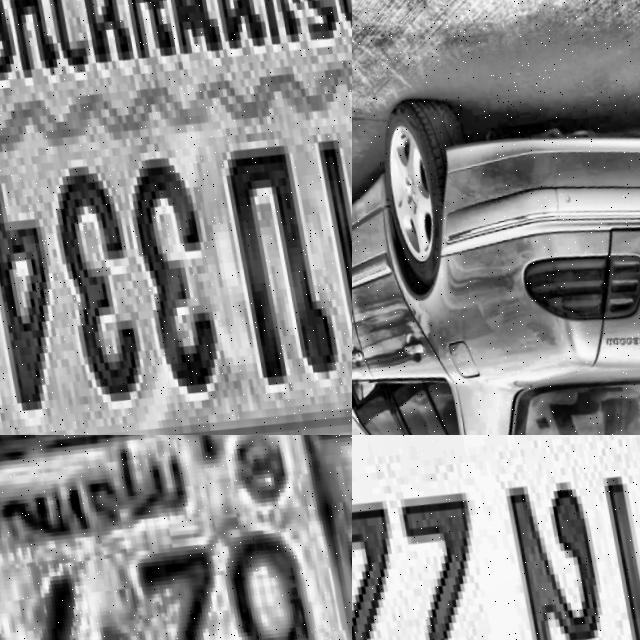license-plate: (0, 0, 352, 435), (0, 435, 352, 640), (352, 435, 640, 640)
